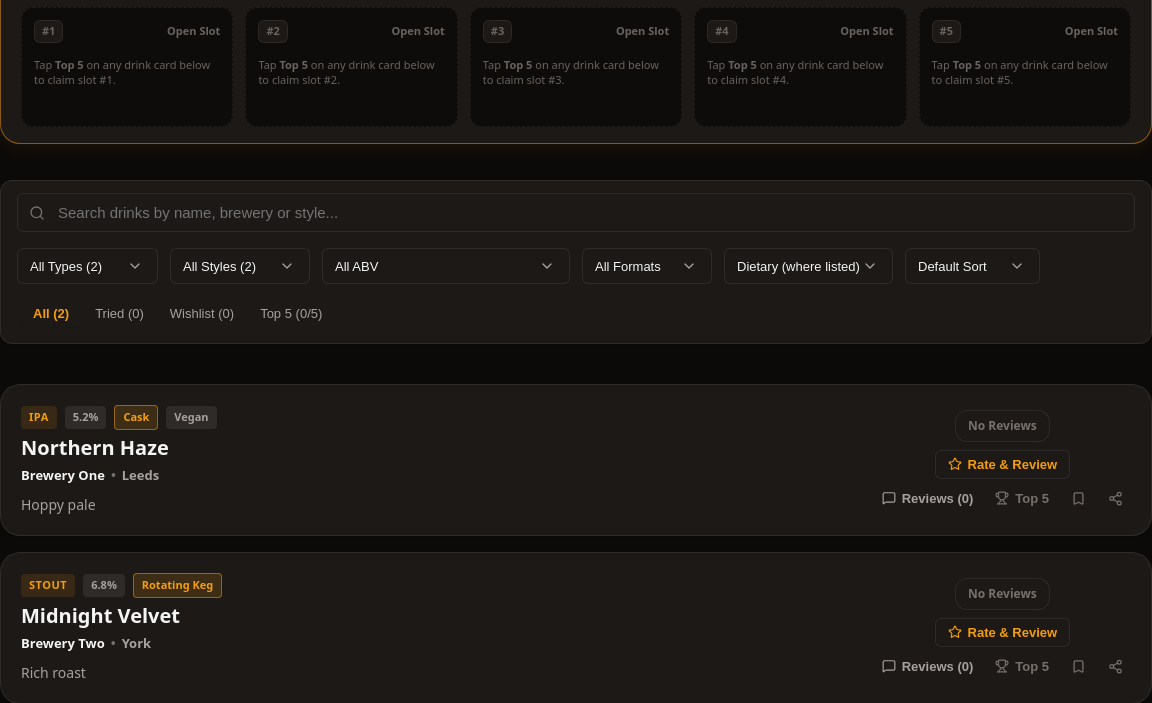
EventDetailScreen wishlist UI and filter controls refresh › refreshes Top 5 hero tray, drink card badges, and filter controls when items are added or removed
(page scrolled)
Check: the button "Wishlist (0)" is shown, box x1=158 y1=300 x2=246 y2=327
Check: the button "Top 5 (0/5)" is shown, box x1=248 y1=300 x2=334 y2=327
Add Northern Haze (drink-1) to Top 5
Click the button with aria-label "Add Northern Haze to Top 5 wishlist" at (1022, 498), box x1=987 y1=487 x2=1057 y2=510
(page scrolled)
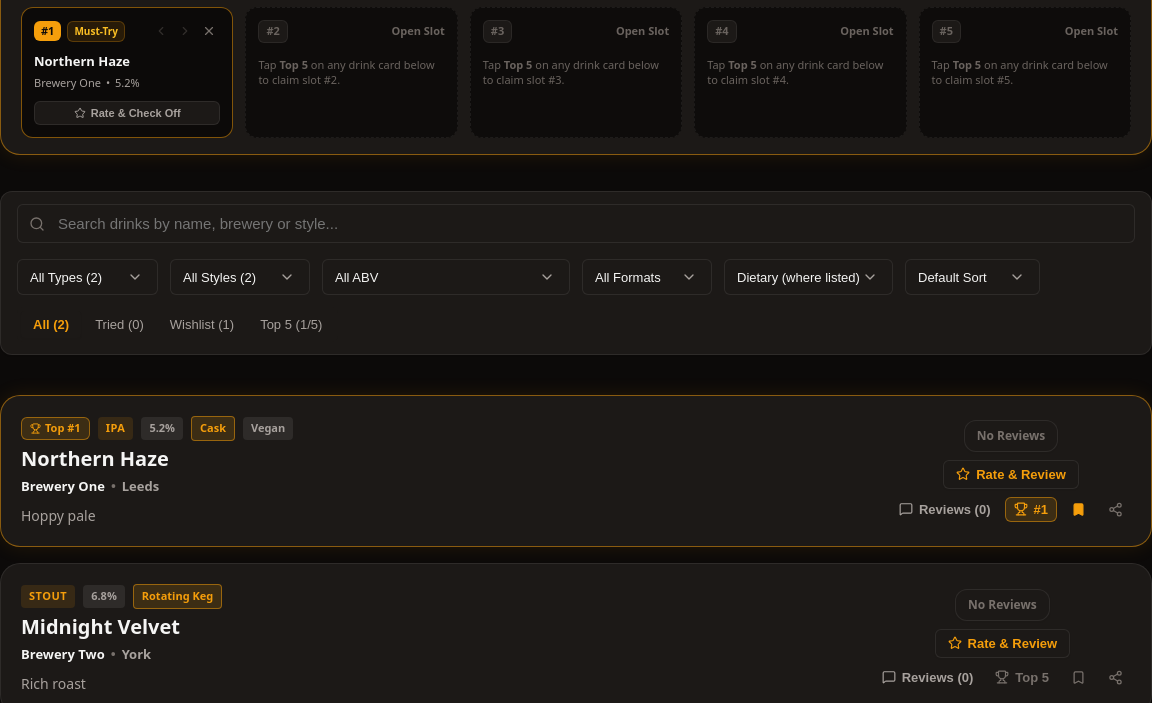
Check: the button "Wishlist (1)" is shown, box x1=158 y1=311 x2=246 y2=338
Check: the button "Top 5 (1/5)" is shown
Filter by Top 5 using the filter tab
Click the button "Top 5 (1/5)" at (291, 325), box x1=248 y1=311 x2=334 y2=338
(page scrolled)
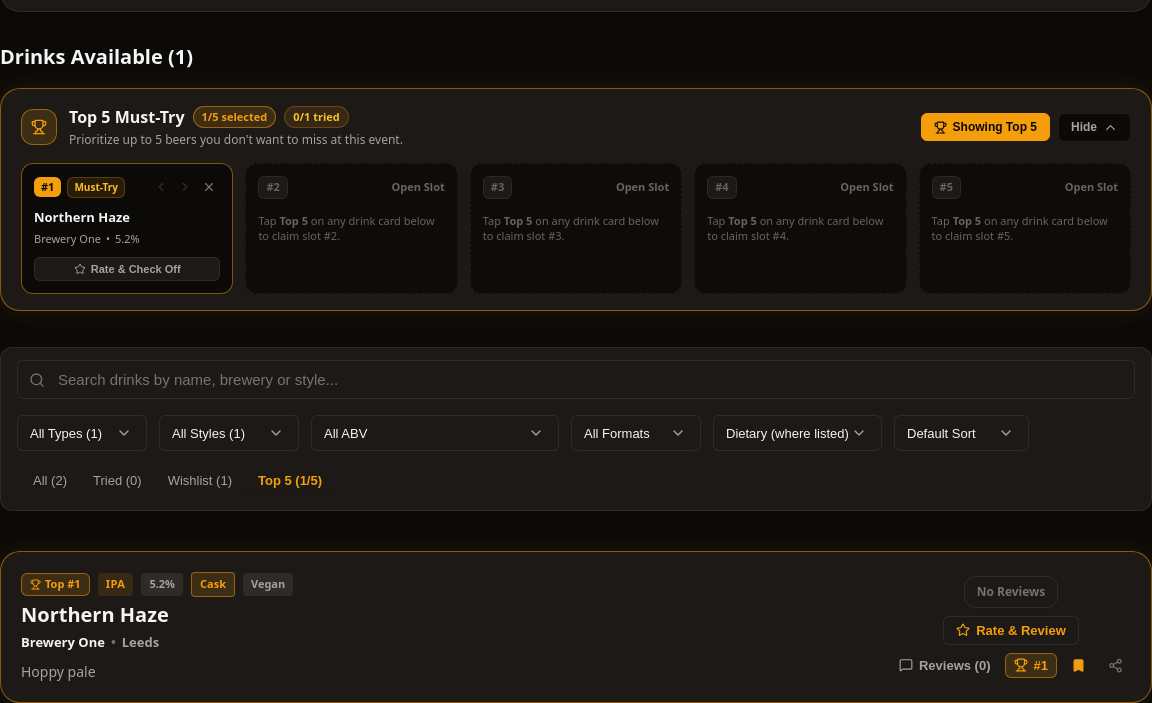
Check: the heading "Drinks Available (1)" is shown, box x1=0 y1=43 x2=193 y2=70
Click the button named "Remove Northern Haze from Top 5" at (209, 187), box x1=198 y1=176 x2=220 y2=198
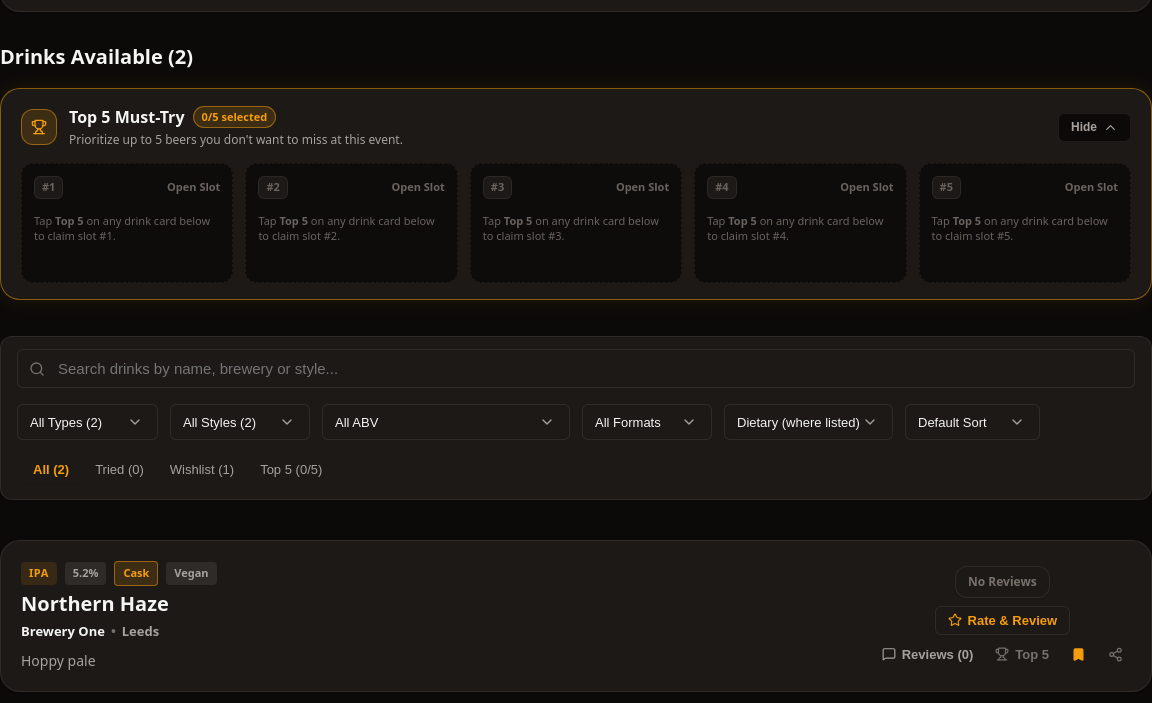
Check: the 2nd element named "search drinks by name, brewery or style" is shown, box x1=17 y1=349 x2=1135 y2=388
Check: the text "0/5 selected" is shown, box x1=192 y1=106 x2=276 y2=128
Check: the heading "Drinks Available (2)" is shown, box x1=0 y1=43 x2=193 y2=70
